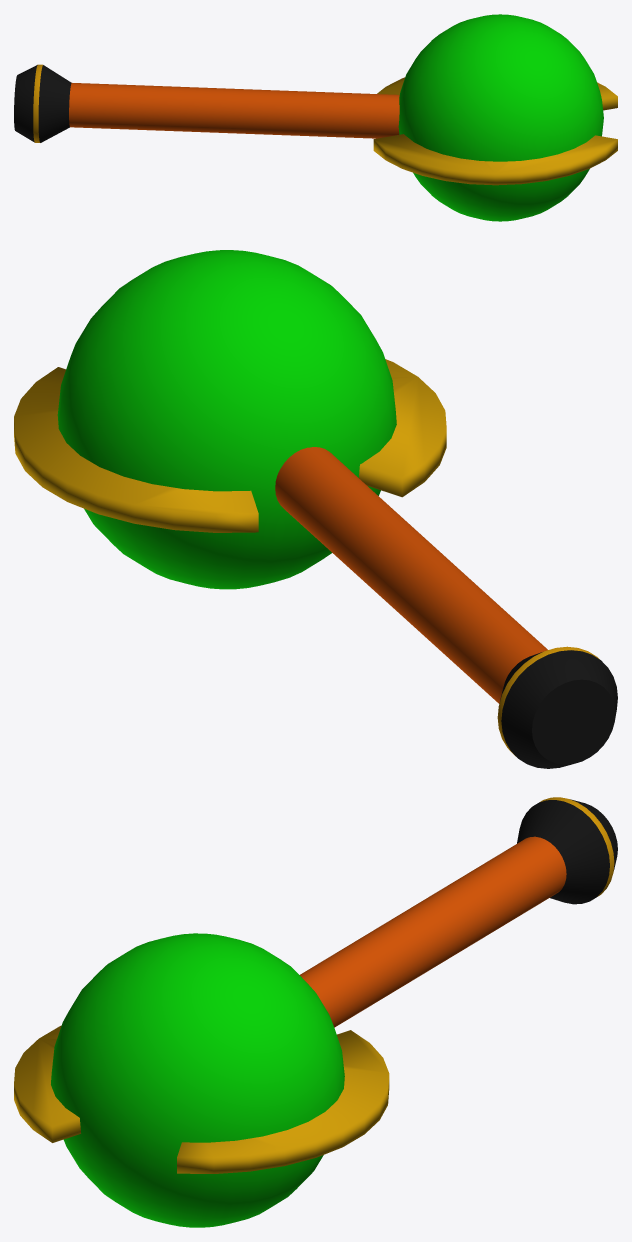
The model's file is Staff.obj.
3 views of the same model, one above another, from view 1: azimuth 30°, elevation 25°; view 2: azimuth 150°, elevation 25°; view 3: azimuth 270°, elevation 25° (orthographic). The views are drawn at different scales.
Visible parts, largest first — view 1: 球; view 2: 球; view 3: 球.
Boxes of the visible parts, x1=… form: 球: x1=14, y1=14, x2=617, y2=221; 球: x1=14, y1=250, x2=617, y2=768; 球: x1=14, y1=797, x2=617, y2=1227.
Bounding box in the file's own units: 1.76 × 0.6669 × 1.37.
